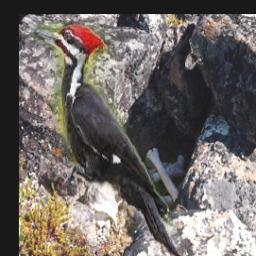Sparrow: (186, 39, 204, 71)
Woodpecker: (32, 22, 186, 256)
